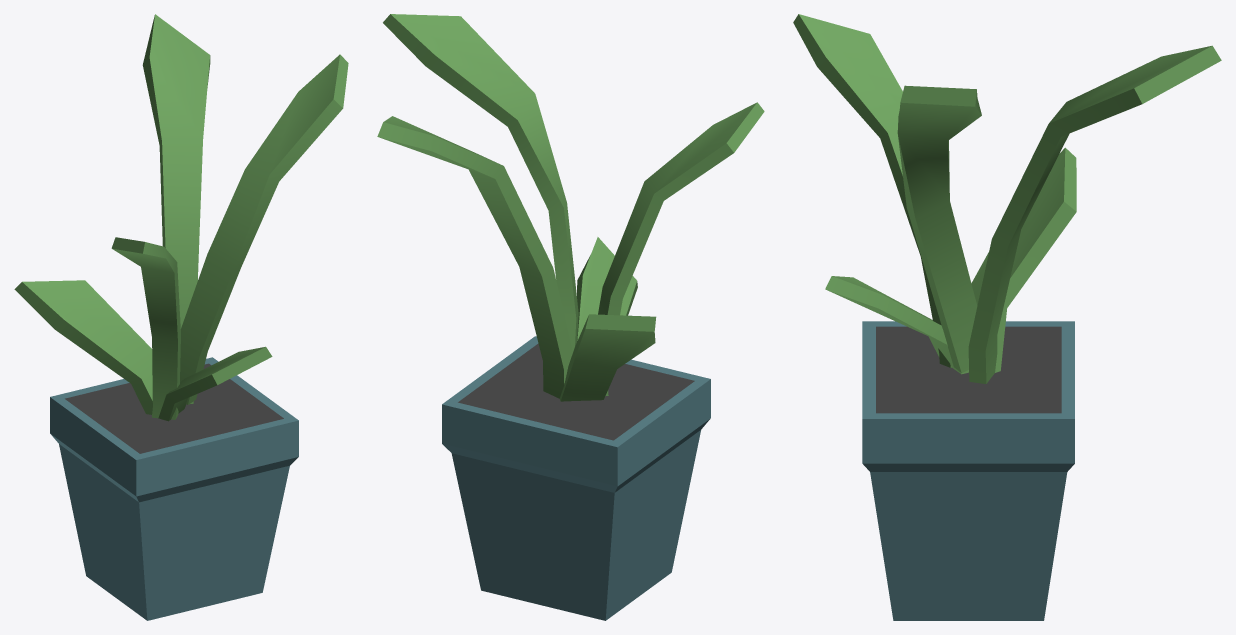
Rendered from SM_Flower_A1.fbx.
The picture shows the model from 3 angles, left to right: view 1: azimuth 30°, elevation 25°; view 2: azimuth 150°, elevation 25°; view 3: azimuth 270°, elevation 25°; orthographic projection. The views are drawn at different scales.
Parts seen in each view (by area): view 1: SM_Flower_A1; view 2: SM_Flower_A1; view 3: SM_Flower_A1.
Part boxes in pixels (x1,y1,x2,y2): SM_Flower_A1: (14,14,348,620); SM_Flower_A1: (377,14,764,620); SM_Flower_A1: (793,14,1221,620).
Size of the model in its own units: 44 by 69.84 by 45.32.
